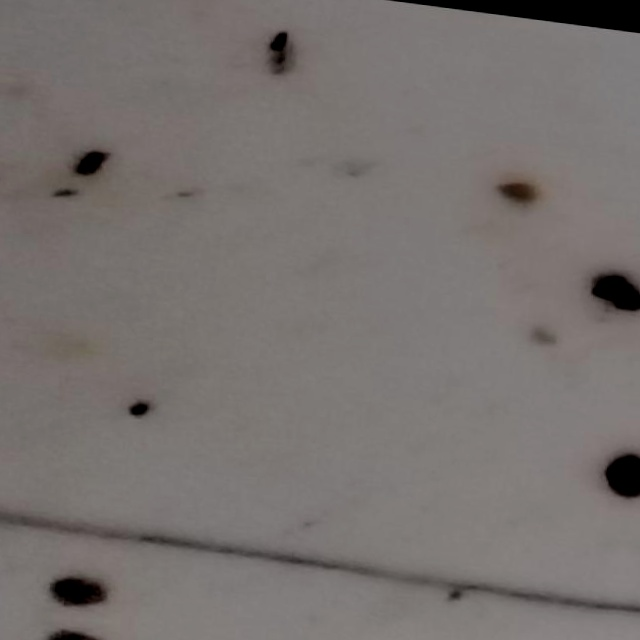varroa: (43, 571, 114, 617), (602, 447, 631, 492)
